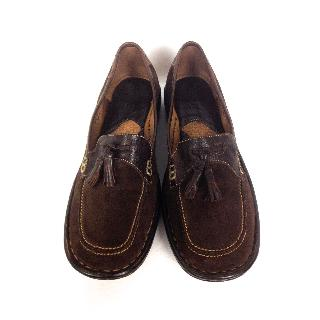loafers: (58, 34, 264, 286)
